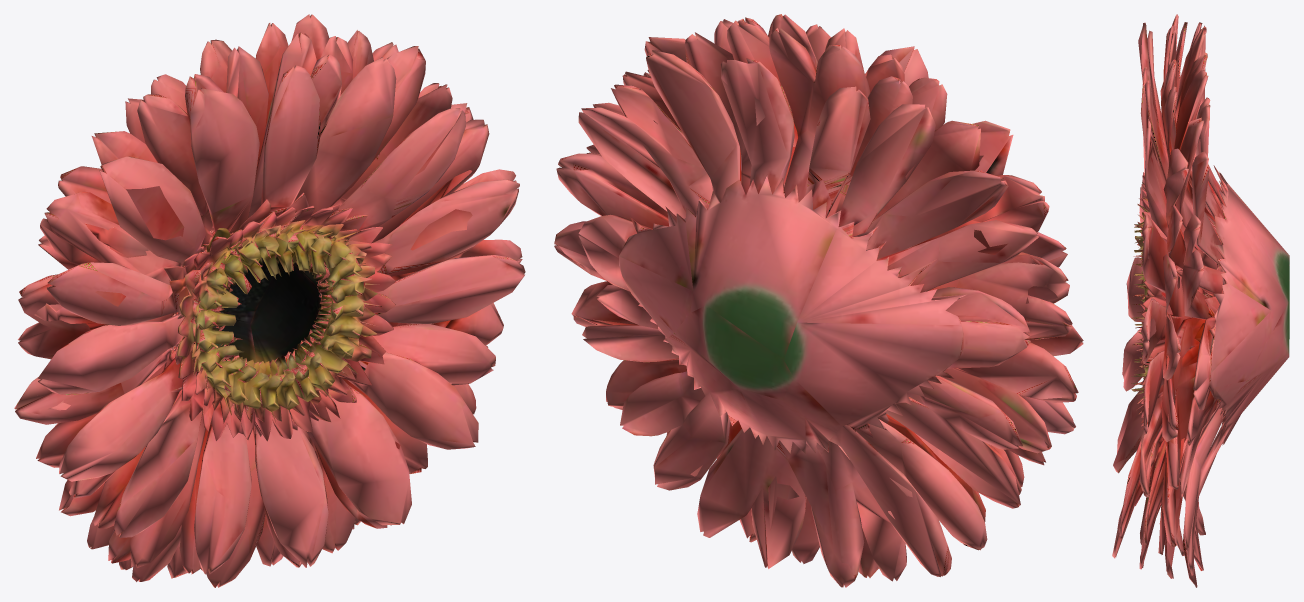
Rendered from fl-flower-gerbera.glb.
3 views of the same model, side by side, from view 1: azimuth 30°, elevation 25°; view 2: azimuth 150°, elevation 25°; view 3: azimuth 270°, elevation 25° (orthographic). The views are drawn at different scales.
Visible parts, largest first — view 1: node_0; view 2: node_0; view 3: node_0.
Part boxes in pixels (x1,y1,x2,y2): node_0: (14, 14, 525, 587); node_0: (554, 14, 1083, 587); node_0: (1112, 14, 1289, 587).
Bounding box in the file's own units: 1.14 × 1.14 × 0.3596.
Materials: 1 (1 with a texture image).
